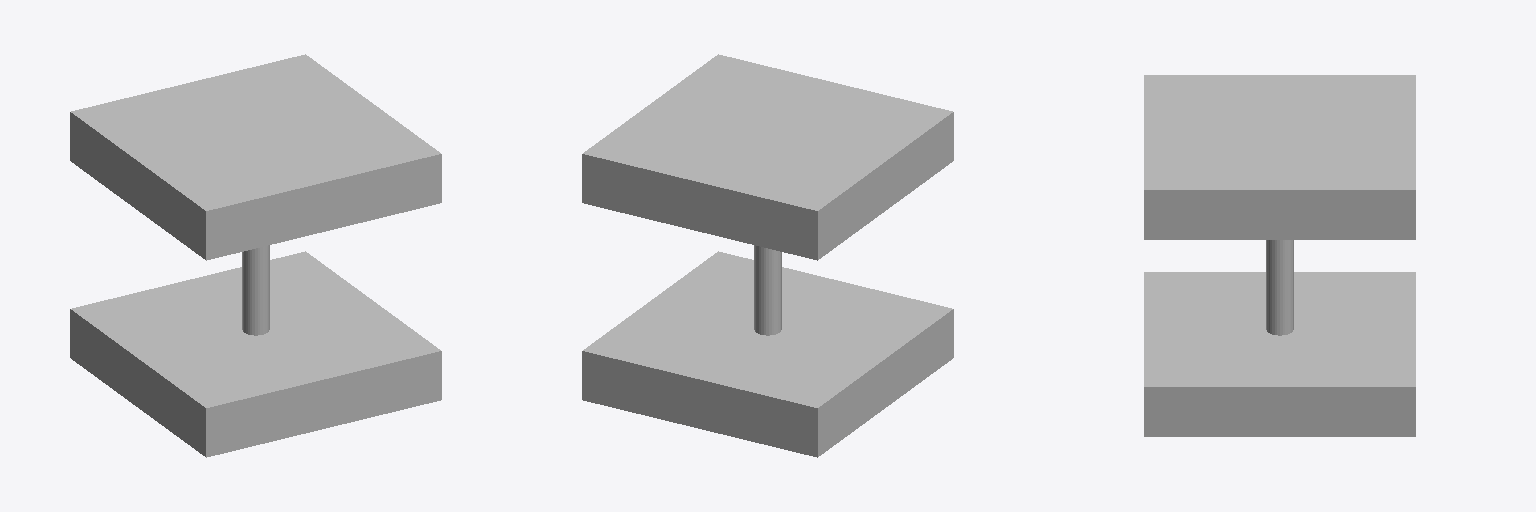
Rendered from BF_Gattling_Base.obj.
3 views of the same model, side by side, from view 1: azimuth 30°, elevation 25°; view 2: azimuth 150°, elevation 25°; view 3: azimuth 270°, elevation 25° (orthographic).
Visible parts, largest first — view 1: Cube_Cube.001; view 2: Cube_Cube.001; view 3: Cube_Cube.001.
Boxes of the visible parts, x1,y1,x2,y2 form: Cube_Cube.001: [70, 54, 441, 457]; Cube_Cube.001: [582, 54, 953, 457]; Cube_Cube.001: [1144, 75, 1415, 436].
Size of the model in its own units: 5 by 5 by 5.